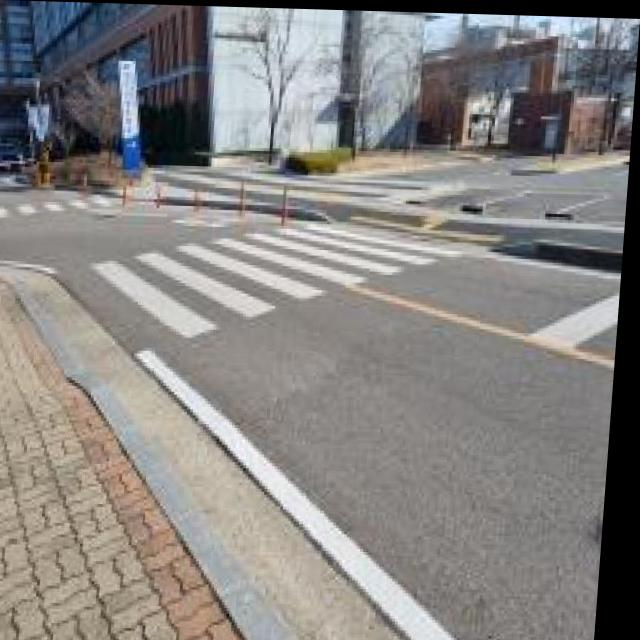zebra: (85, 212, 477, 350), (1, 192, 140, 232)
